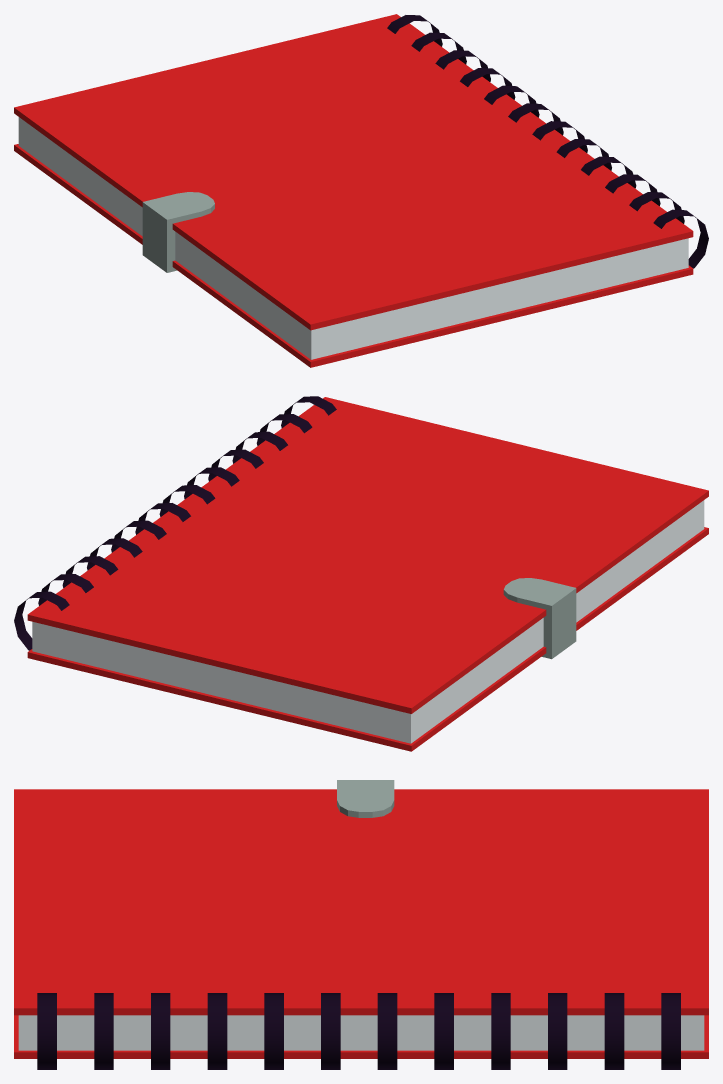
The model's file is handbook.fbx.
3 views of the same model, one above another, from view 1: azimuth 30°, elevation 25°; view 2: azimuth 150°, elevation 25°; view 3: azimuth 270°, elevation 25° (orthographic). The views are drawn at different scales.
Visible parts, largest first — view 1: handbook; view 2: handbook; view 3: handbook.
Part boxes in pixels (bbox=[...]): handbook: bbox=[14, 14, 708, 367]; handbook: bbox=[14, 396, 708, 751]; handbook: bbox=[14, 780, 708, 1069].
Bounding box in the file's own units: 90.16 × 12.45 × 112.
